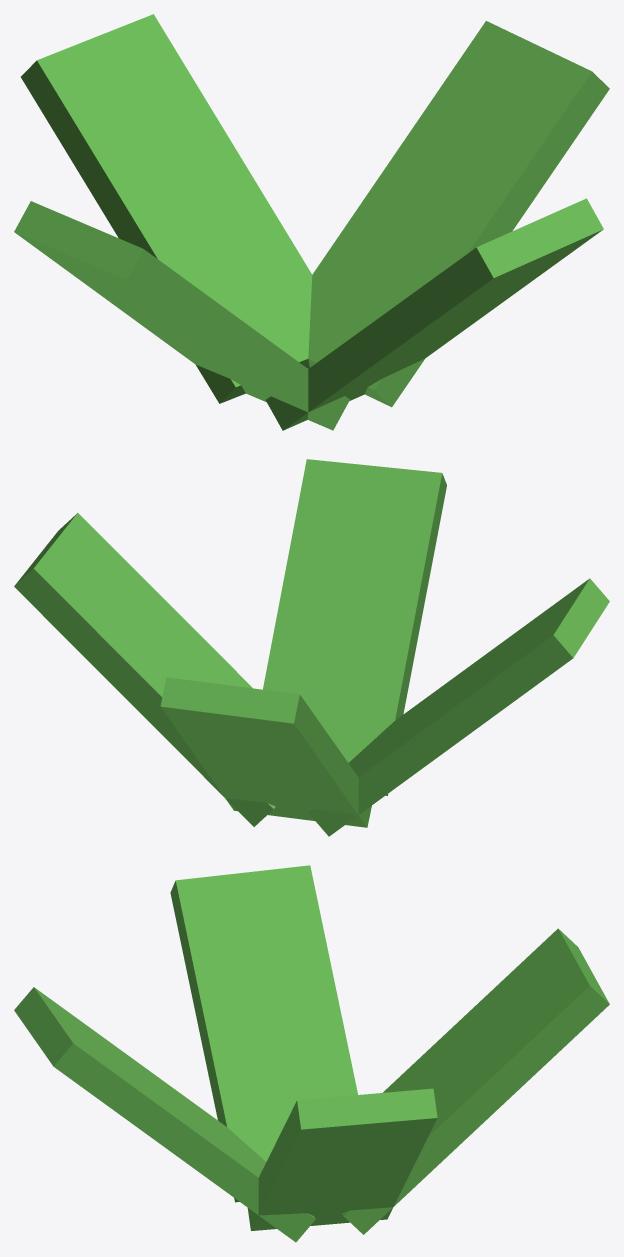
Rendered from crop_2.glb.
3 views of the same model, one above another, from view 1: azimuth 30°, elevation 25°; view 2: azimuth 150°, elevation 25°; view 3: azimuth 270°, elevation 25° (orthographic). The views are drawn at different scales.
Visible parts, largest first — view 1: Crop; view 2: Crop; view 3: Crop.
Boxes of the visible parts, x1,y1,x2,y2 form: Crop: (14, 14, 609, 430); Crop: (14, 459, 609, 836); Crop: (14, 865, 609, 1242).
Bounding box in the file's own units: 0.3854 × 0.162 × 0.3853.
